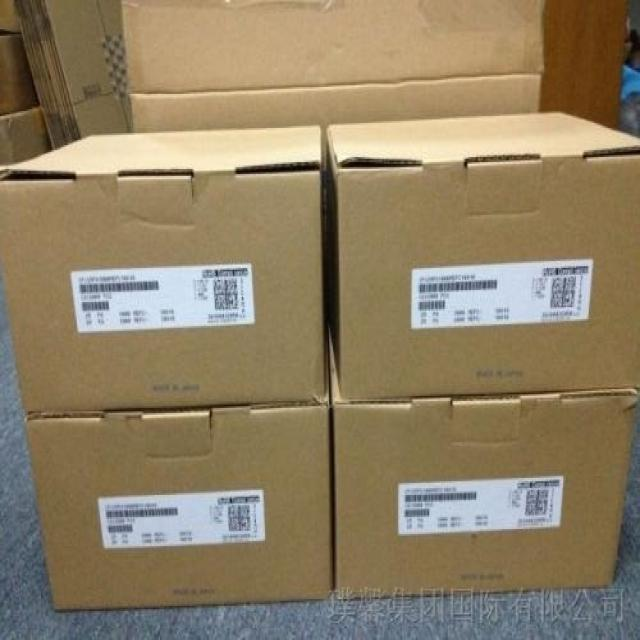box: (0, 124, 331, 410), (325, 112, 639, 396), (329, 333, 637, 596), (24, 403, 330, 610), (123, 0, 545, 91), (131, 72, 544, 129), (0, 18, 43, 114), (0, 104, 55, 169)
